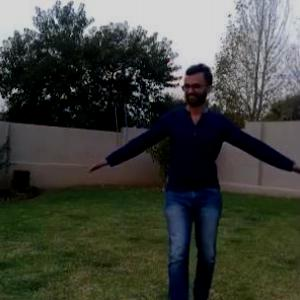land: (65, 43, 299, 299)
